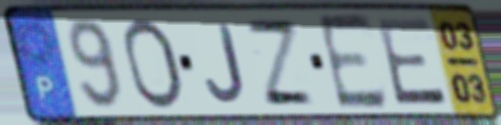9: (65, 16, 127, 113)
E: (313, 11, 392, 114), (372, 15, 451, 108)
J: (203, 21, 248, 105)
O: (120, 15, 188, 112)
Z: (240, 17, 319, 108)
